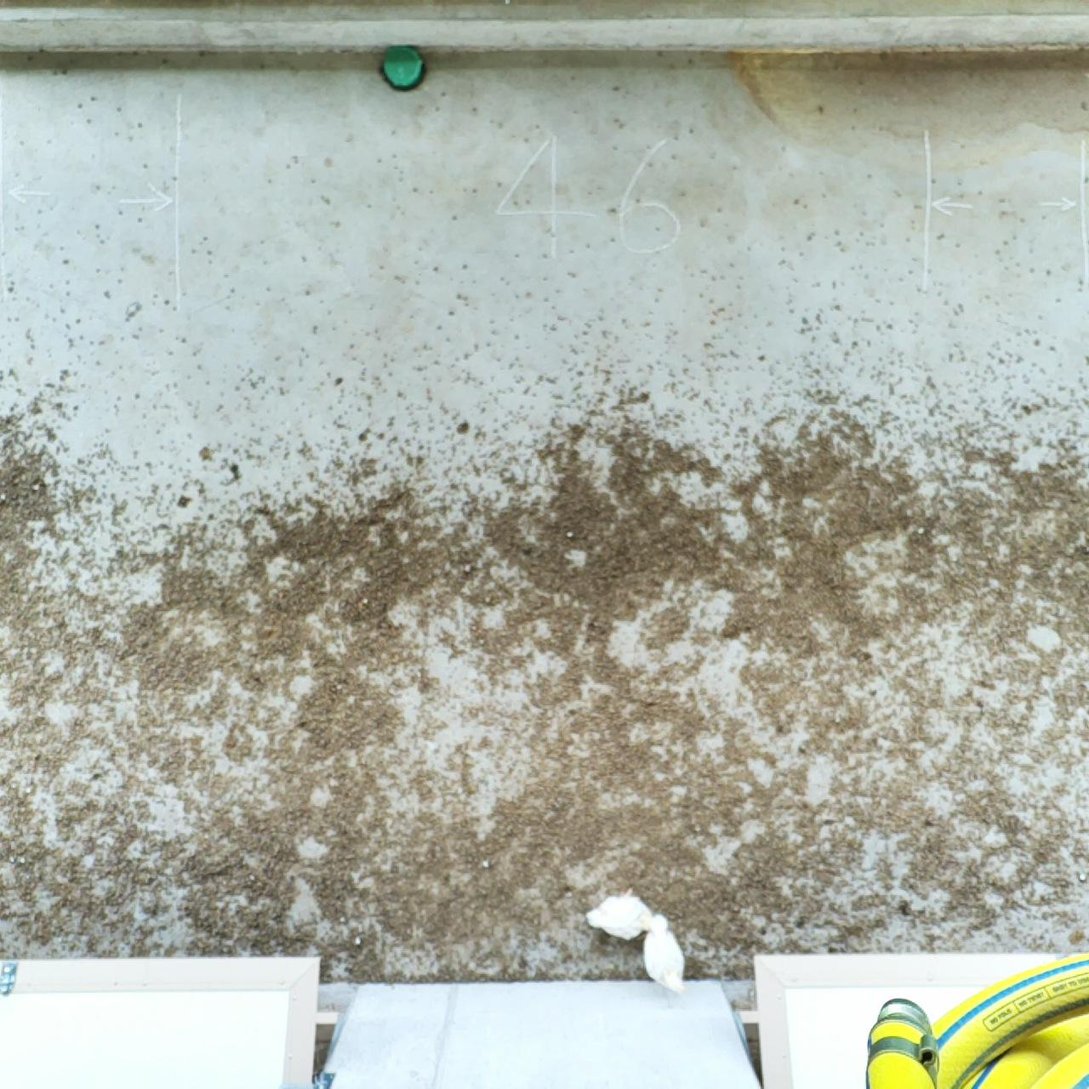chicken: (639, 911, 692, 999), (584, 885, 660, 944)
